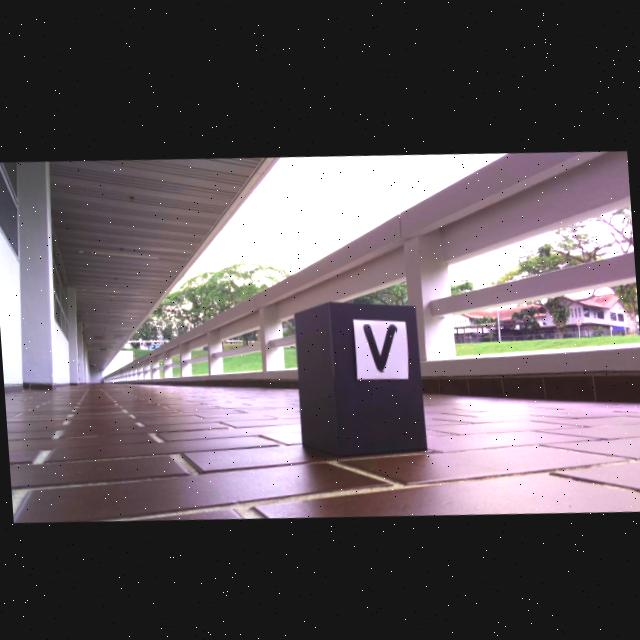V: (364, 320, 396, 366)
